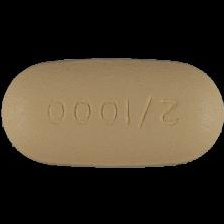54868-5376: (0, 0, 224, 224)
